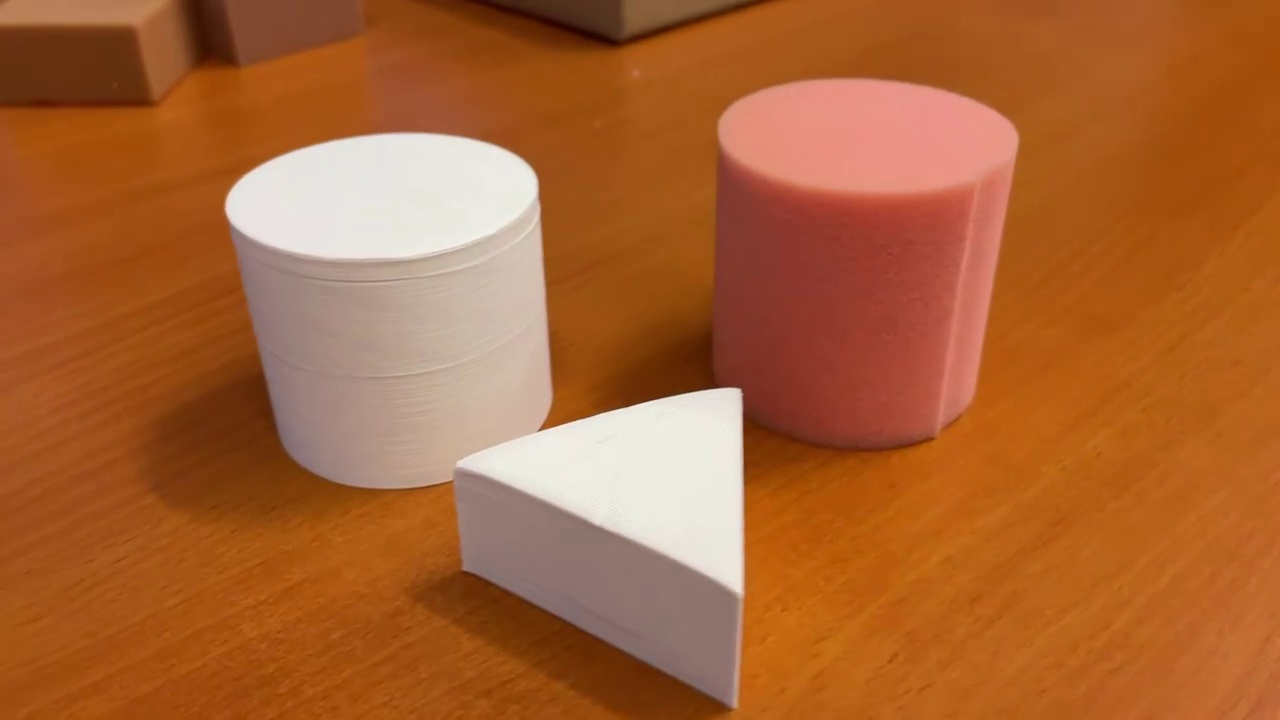Cylinder: (690, 69, 1027, 459), (211, 123, 560, 493)
Triangle_short: (449, 383, 757, 717)
